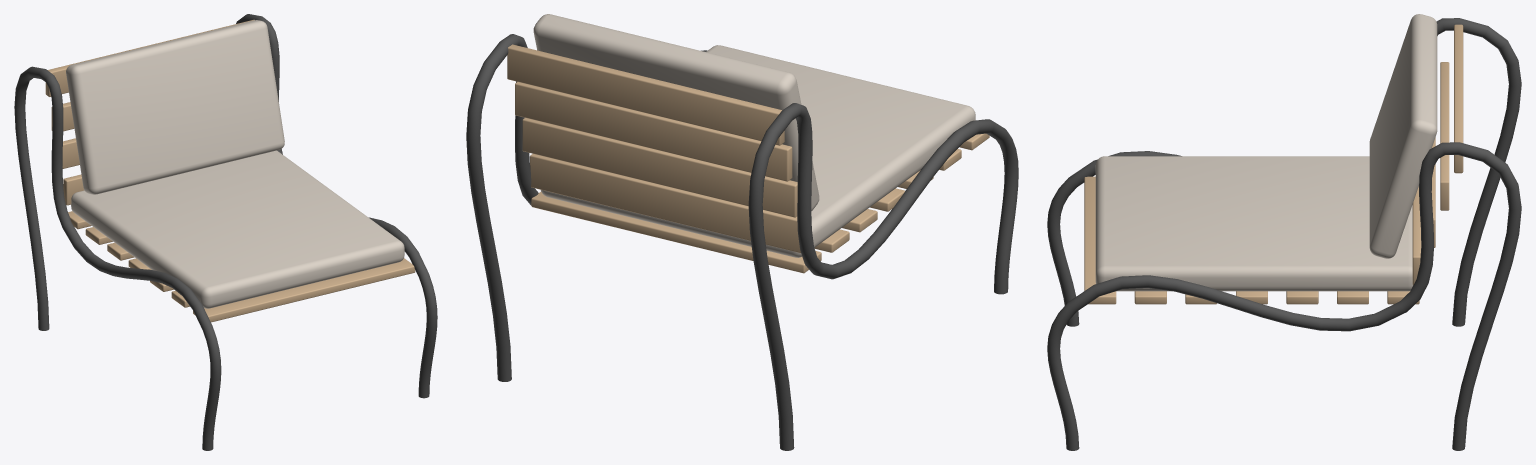
File: it_lounge_outdoor.glb
The picture shows the model from 3 angles, left to right: view 1: azimuth 30°, elevation 25°; view 2: azimuth 150°, elevation 25°; view 3: azimuth 270°, elevation 25°; orthographic projection. The views are drawn at different scales.
Parts seen in each view (by area): view 1: cushion, backcush, frame-1, slat0, frame1, bslat3, bslat1, bslat0; view 2: cushion, frame-1, backcush, bslat3, bslat2, bslat1, bslat0, frame1, slat6; view 3: cushion, frame1, backcush, frame-1, slat0, bslat3, bslat2, bslat0.
Boxes of the visible parts, x1=… form: cushion: x1=71, y1=150, x2=404, y2=308; backcush: x1=66, y1=20, x2=284, y2=194; frame-1: x1=14, y1=66, x2=221, y2=450; slat0: x1=193, y1=258, x2=415, y2=322; frame1: x1=236, y1=14, x2=437, y2=398; bslat3: x1=45, y1=19, x2=254, y2=96; bslat1: x1=62, y1=138, x2=79, y2=168; bslat0: x1=63, y1=174, x2=84, y2=205; cushion: x1=540, y1=45, x2=975, y2=257; frame-1: x1=748, y1=103, x2=1018, y2=450; backcush: x1=533, y1=14, x2=819, y2=210; bslat3: x1=507, y1=44, x2=784, y2=145; bslat2: x1=515, y1=82, x2=792, y2=181; bslat1: x1=522, y1=117, x2=797, y2=217; bslat0: x1=530, y1=154, x2=800, y2=252; frame1: x1=466, y1=34, x2=707, y2=381; slat6: x1=531, y1=191, x2=821, y2=273; cushion: x1=1095, y1=156, x2=1412, y2=291; frame1: x1=1047, y1=142, x2=1521, y2=450; backcush: x1=1369, y1=14, x2=1437, y2=258; frame-1: x1=1047, y1=18, x2=1521, y2=326; slat0: x1=1084, y1=176, x2=1116, y2=304; bslat3: x1=1454, y1=24, x2=1463, y2=173; bslat2: x1=1440, y1=62, x2=1449, y2=210; bslat0: x1=1412, y1=186, x2=1421, y2=284.
Size of the model in its own units: 0.668 by 0.7663 by 1.03.
